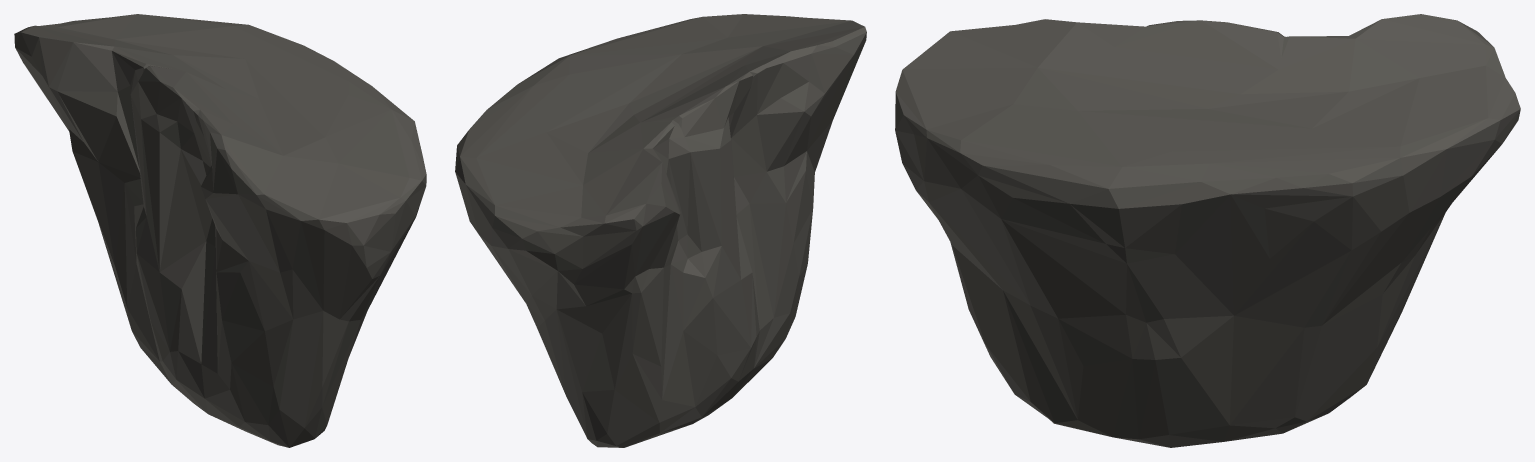
File: SM_Env_Rock_Cliff_06.fbx
3 views of the same model, side by side, from view 1: azimuth 30°, elevation 25°; view 2: azimuth 150°, elevation 25°; view 3: azimuth 270°, elevation 25° (orthographic). The views are drawn at different scales.
Visible parts, largest first — view 1: SM_Env_Rock_Cliff_06; view 2: SM_Env_Rock_Cliff_06; view 3: SM_Env_Rock_Cliff_06.
Part boxes in pixels (x1,y1,x2,y2): SM_Env_Rock_Cliff_06: (14,14,426,447); SM_Env_Rock_Cliff_06: (455,14,866,447); SM_Env_Rock_Cliff_06: (895,14,1520,447).
Size of the model in its own units: 948 by 1215 by 1839.
1 material, 1 textured.
